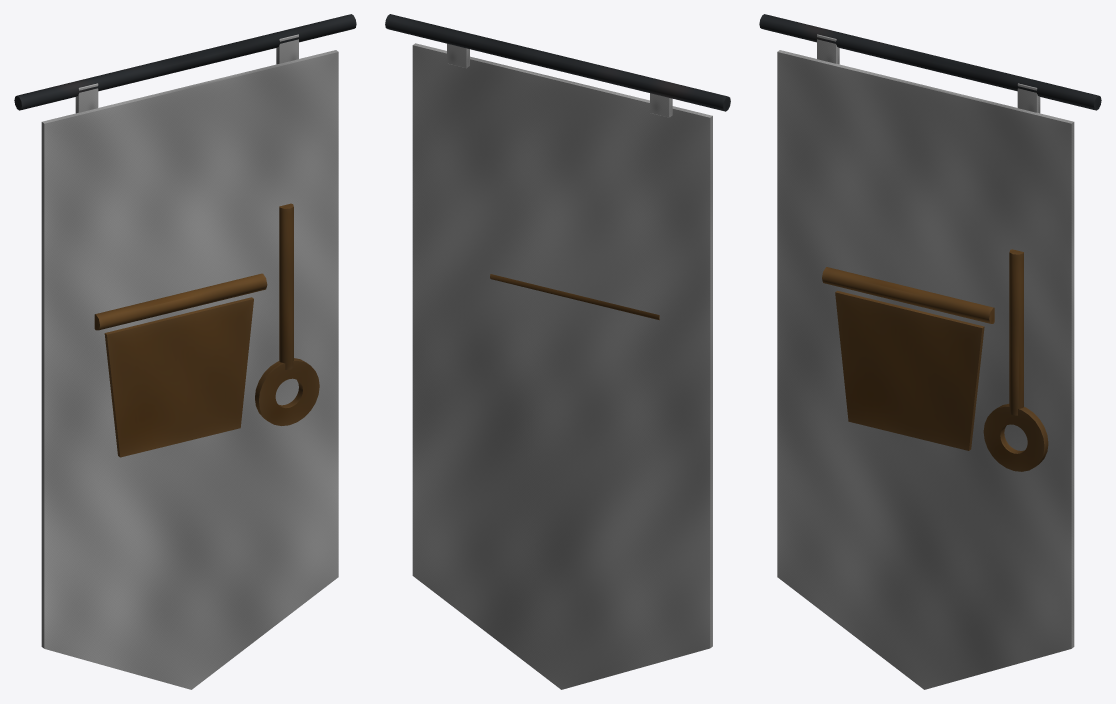
The model's file is Furn_Banner_Cook.fbx.
3 renders of one model, left to right at view 1: azimuth 30°, elevation 25°; view 2: azimuth 150°, elevation 25°; view 3: azimuth 330°, elevation 25°, orthographic.
Parts seen in each view (by area): view 1: Furn_Banner_Cook; view 2: Furn_Banner_Cook; view 3: Furn_Banner_Cook.
Part boxes in pixels (box(x1,y1,x2,y2)): Furn_Banner_Cook: box(14, 14, 356, 689); Furn_Banner_Cook: box(385, 14, 730, 689); Furn_Banner_Cook: box(759, 14, 1101, 689).
Size of the model in its own units: 1 by 1.8 by 0.08.
3 materials, 3 textured.
